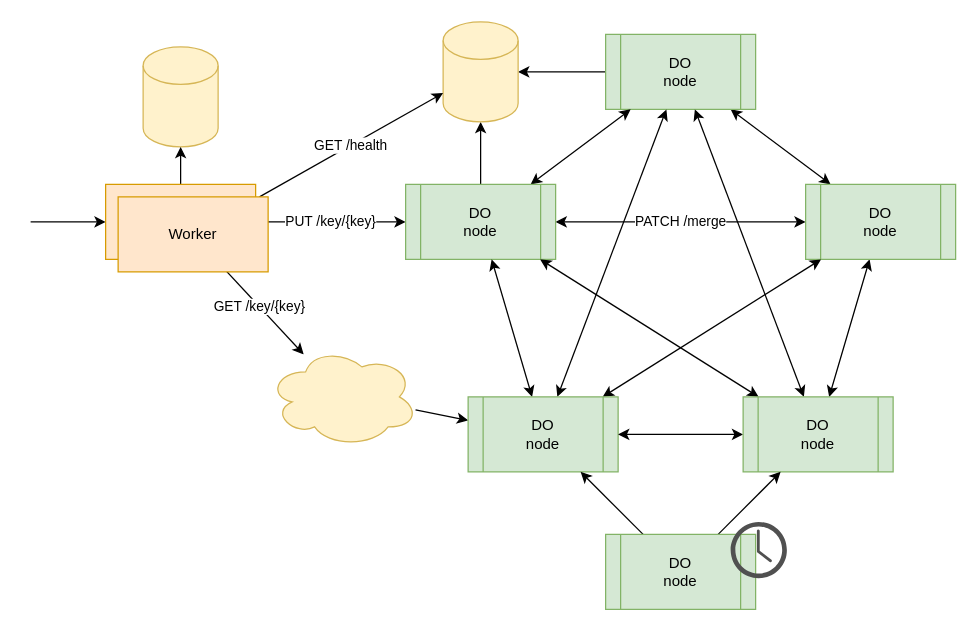
Image size: 978x631. Some labels were removed from this diagram. Each missing label, with the box of its shape:
Cache: (267, 346, 418, 447)
KV cluster health: (442, 21, 518, 122)
KV config: (142, 46, 218, 147)
